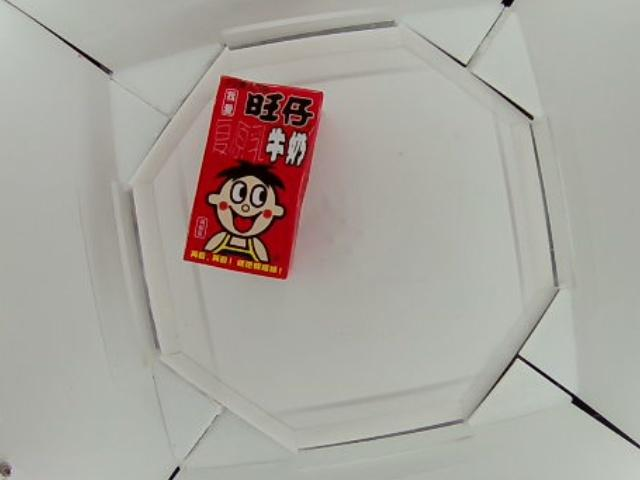Bottle: (181, 74, 325, 276)
